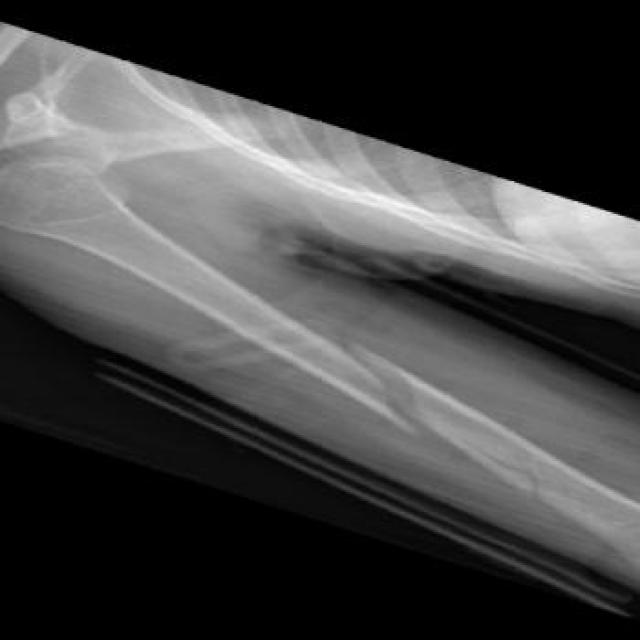Fracture: (303, 346, 438, 450), (472, 435, 557, 518)
